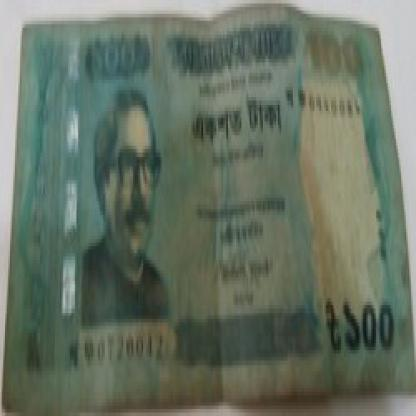one hundred taka: (340, 295, 400, 364), (305, 31, 366, 87), (88, 31, 140, 83)
